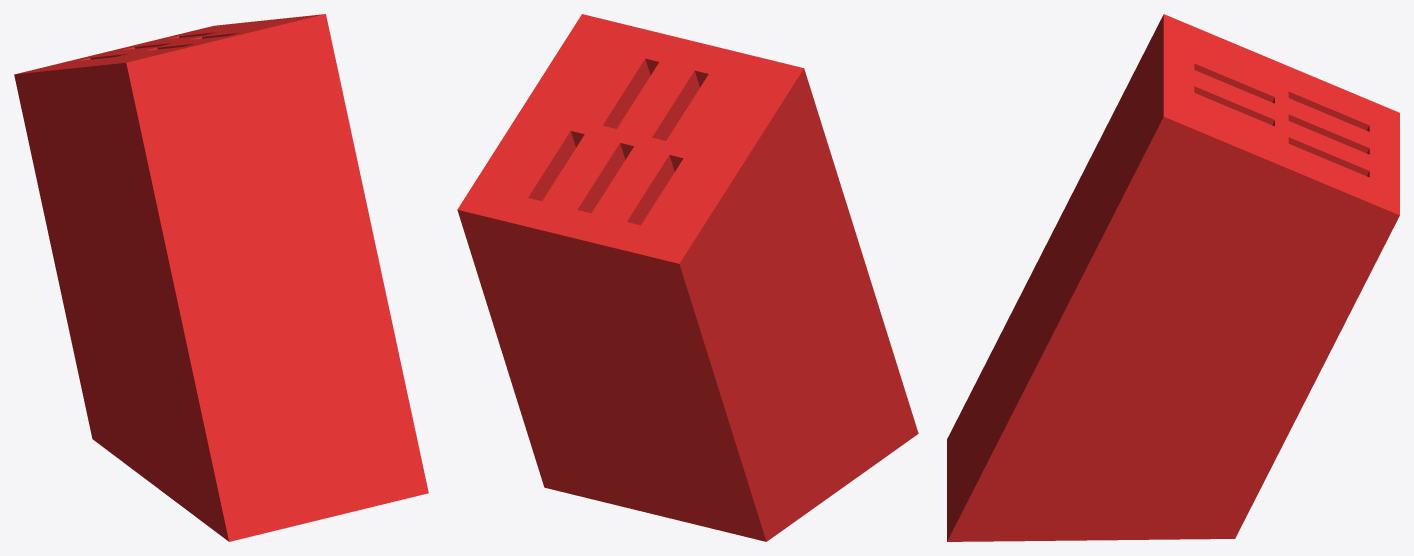
File: ke_de_dao.fbx
The picture shows the model from 3 angles, left to right: view 1: azimuth 30°, elevation 25°; view 2: azimuth 150°, elevation 25°; view 3: azimuth 270°, elevation 25°; orthographic projection. The views are drawn at different scales.
Visible parts, largest first — view 1: ke_de_dao; view 2: ke_de_dao; view 3: ke_de_dao.
Part boxes in pixels (x1,y1,x2,y2): ke_de_dao: (14,14,428,541); ke_de_dao: (457,14,918,541); ke_de_dao: (947,14,1399,541).
Size of the model in its own units: 42.79 by 82.71 by 79.81.
Materials: 1 (1 with a texture image).
